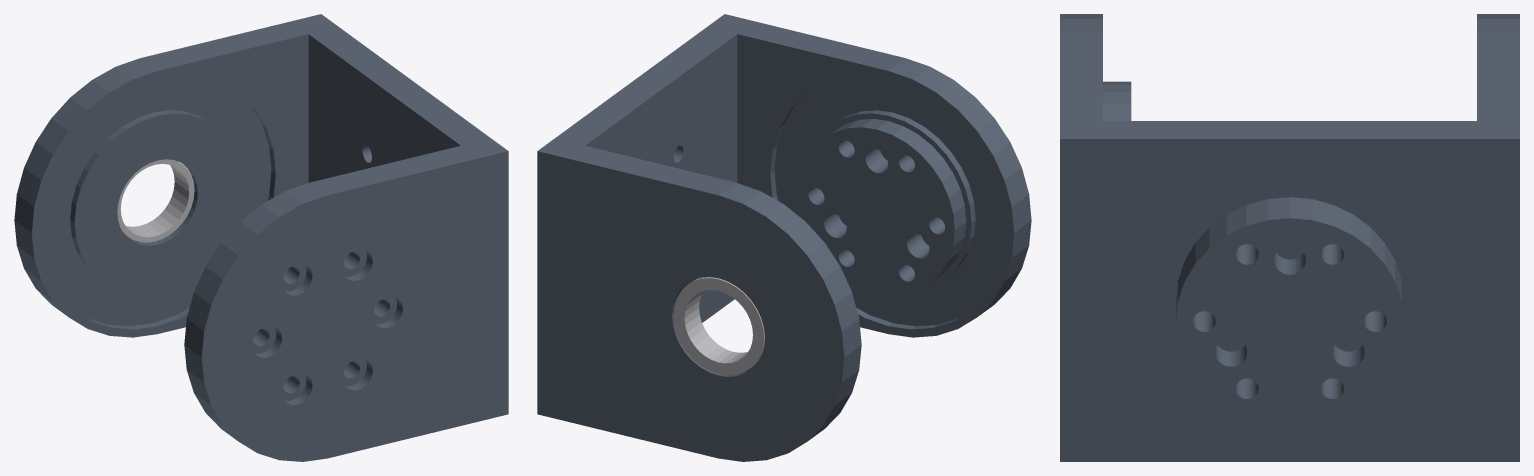
File: ankle_L.dae
3 views of the same model, side by side, from view 1: azimuth 30°, elevation 25°; view 2: azimuth 150°, elevation 25°; view 3: azimuth 270°, elevation 25° (orthographic). The views are drawn at different scales.
Visible parts, largest first — view 1: ankle_L-printed, ankle_L-steel; view 2: ankle_L-printed, ankle_L-steel; view 3: ankle_L-printed.
Boxes of the visible parts, <box> form: ankle_L-printed: <box>14,14,508,461</box>; ankle_L-steel: <box>117,159,194,243</box>; ankle_L-printed: <box>537,14,1031,461</box>; ankle_L-steel: <box>673,277,764,375</box>; ankle_L-printed: <box>1060,14,1519,461</box>.
Bounding box in the file's own units: 0.068 × 0.0645 × 0.05.
